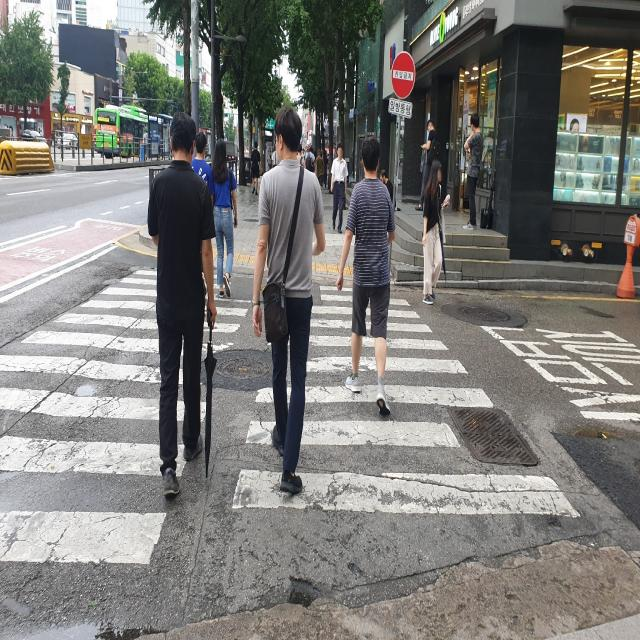횡단보도: (0, 267, 584, 569)
